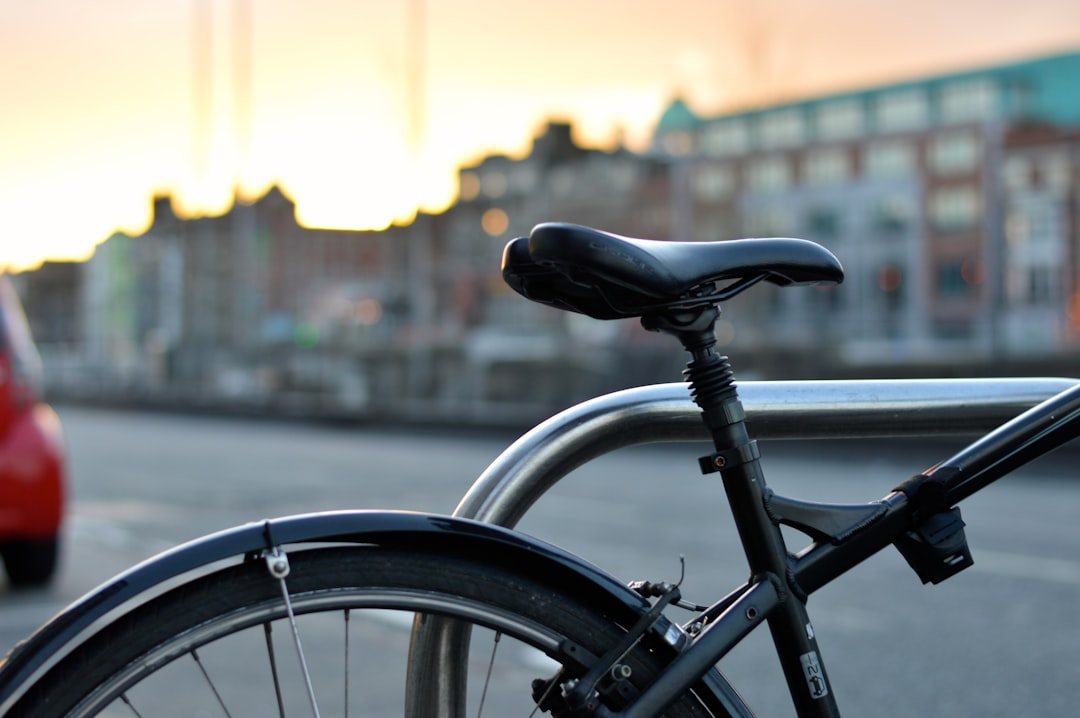bicycle: (4, 223, 1080, 718)
